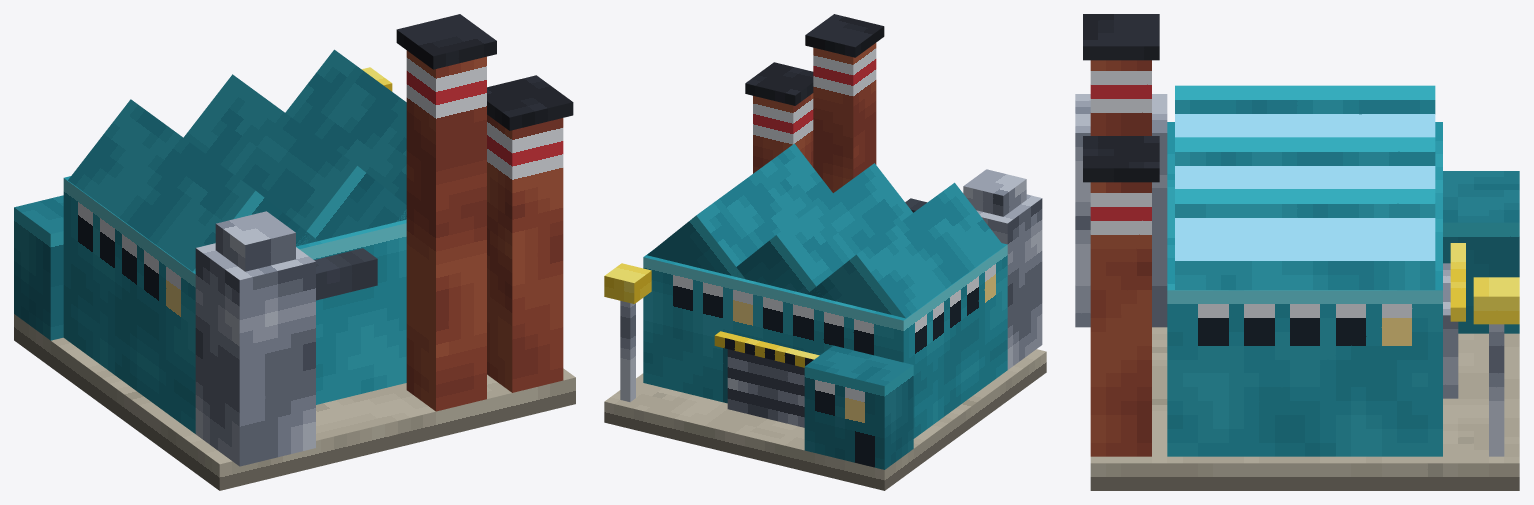
The model's file is factory_blue.glb.
3 views of the same model, side by side, from view 1: azimuth 30°, elevation 25°; view 2: azimuth 150°, elevation 25°; view 3: azimuth 270°, elevation 25° (orthographic). The views are drawn at different scales.
Parts seen in each view (by area): view 1: body; view 2: body; view 3: body.
Part boxes in pixels (x1=…): body: x1=14, y1=14, x2=575, y2=490; body: x1=604, y1=14, x2=1046, y2=490; body: x1=1075, y1=14, x2=1519, y2=490.
Size of the model in its own units: 0.875 by 0.9062 by 0.9062.
Materials: 1 (1 with a texture image).
